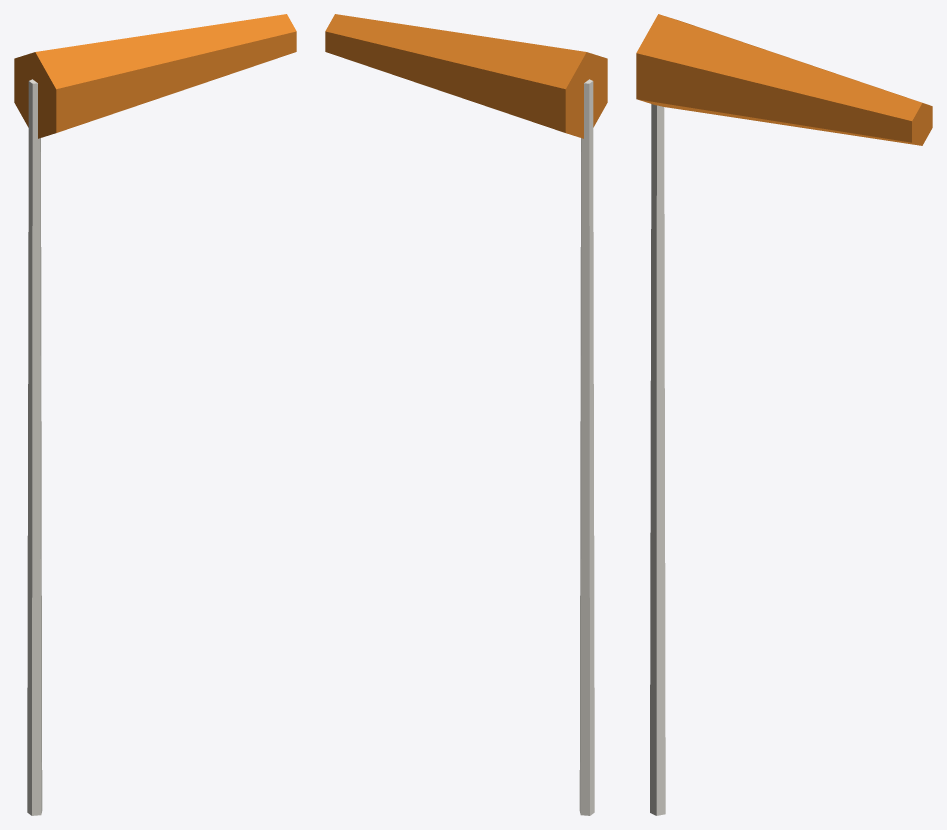
File: windsock.glb
The picture shows the model from 3 angles, left to right: view 1: azimuth 30°, elevation 25°; view 2: azimuth 150°, elevation 25°; view 3: azimuth 330°, elevation 25°; orthographic projection. The views are drawn at different scales.
Parts seen in each view (by area): view 1: windsock; view 2: windsock; view 3: windsock.
Boxes of the visible parts, x1=… form: windsock: x1=14, y1=14, x2=296, y2=815; windsock: x1=325, y1=14, x2=607, y2=815; windsock: x1=636, y1=14, x2=932, y2=815.
Size of the model in its own units: 1.84 by 5.2 by 0.5196.
